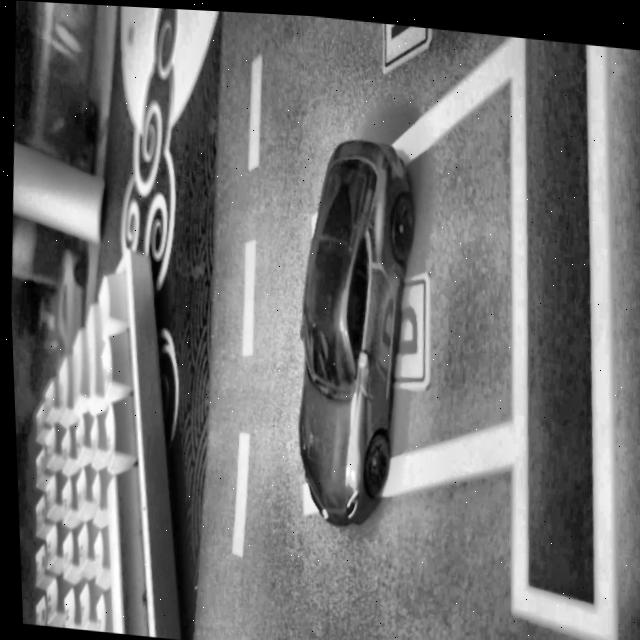car: (281, 127, 426, 529)
